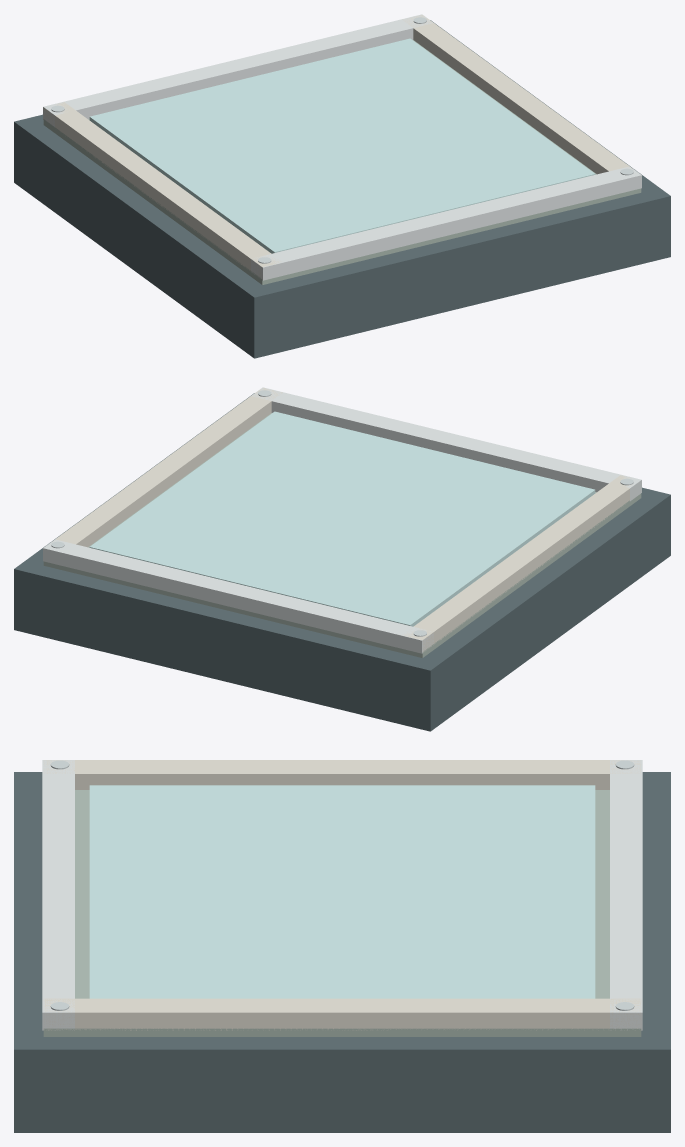
The model's file is s7-lf3-glass-floor-square-half.glb.
3 renders of one model, top to bottom at view 1: azimuth 30°, elevation 25°; view 2: azimuth 150°, elevation 25°; view 3: azimuth 270°, elevation 25°, orthographic. The views are drawn at different scales.
Visible parts, largest first — view 1: 003_protected_glass_diffuser, 000_reinforced_floor_chassis, 005_metallic_frame_rail, 004_metallic_frame_rail, 006_cream_frame_rail, 007_cream_frame_rail, 001_cream_sage_inner_frame; view 2: 003_protected_glass_diffuser, 000_reinforced_floor_chassis, 004_metallic_frame_rail, 005_metallic_frame_rail, 006_cream_frame_rail, 007_cream_frame_rail, 001_cream_sage_inner_frame; view 3: 003_protected_glass_diffuser, 000_reinforced_floor_chassis, 007_cream_frame_rail, 006_cream_frame_rail, 001_cream_sage_inner_frame, 004_metallic_frame_rail, 005_metallic_frame_rail.
Part boxes in pixels (box(x1,y1,x2,y2)): 003_protected_glass_diffuser: box(89, 38, 595, 253); 000_reinforced_floor_chassis: box(14, 20, 670, 358); 005_metallic_frame_rail: box(251, 166, 641, 280); 004_metallic_frame_rail: box(43, 14, 433, 126); 006_cream_frame_rail: box(43, 102, 281, 279); 007_cream_frame_rail: box(403, 15, 631, 174); 001_cream_sage_inner_frame: box(43, 40, 641, 284); 003_protected_glass_diffuser: box(89, 411, 595, 626); 000_reinforced_floor_chassis: box(14, 393, 670, 731); 004_metallic_frame_rail: box(43, 539, 433, 653); 005_metallic_frame_rail: box(251, 387, 641, 501); 006_cream_frame_rail: box(402, 475, 632, 652); 007_cream_frame_rail: box(54, 388, 282, 547); 001_cream_sage_inner_frame: box(43, 413, 641, 657); 003_protected_glass_diffuser: box(89, 785, 595, 998); 000_reinforced_floor_chassis: box(14, 772, 670, 1132); 007_cream_frame_rail: box(43, 998, 641, 1030); 006_cream_frame_rail: box(43, 760, 640, 789); 001_cream_sage_inner_frame: box(43, 790, 641, 1036); 004_metallic_frame_rail: box(610, 760, 642, 1030); 005_metallic_frame_rail: box(42, 760, 74, 1030).
Size of the model in its own units: 0.5 by 0.0915 by 0.5.
